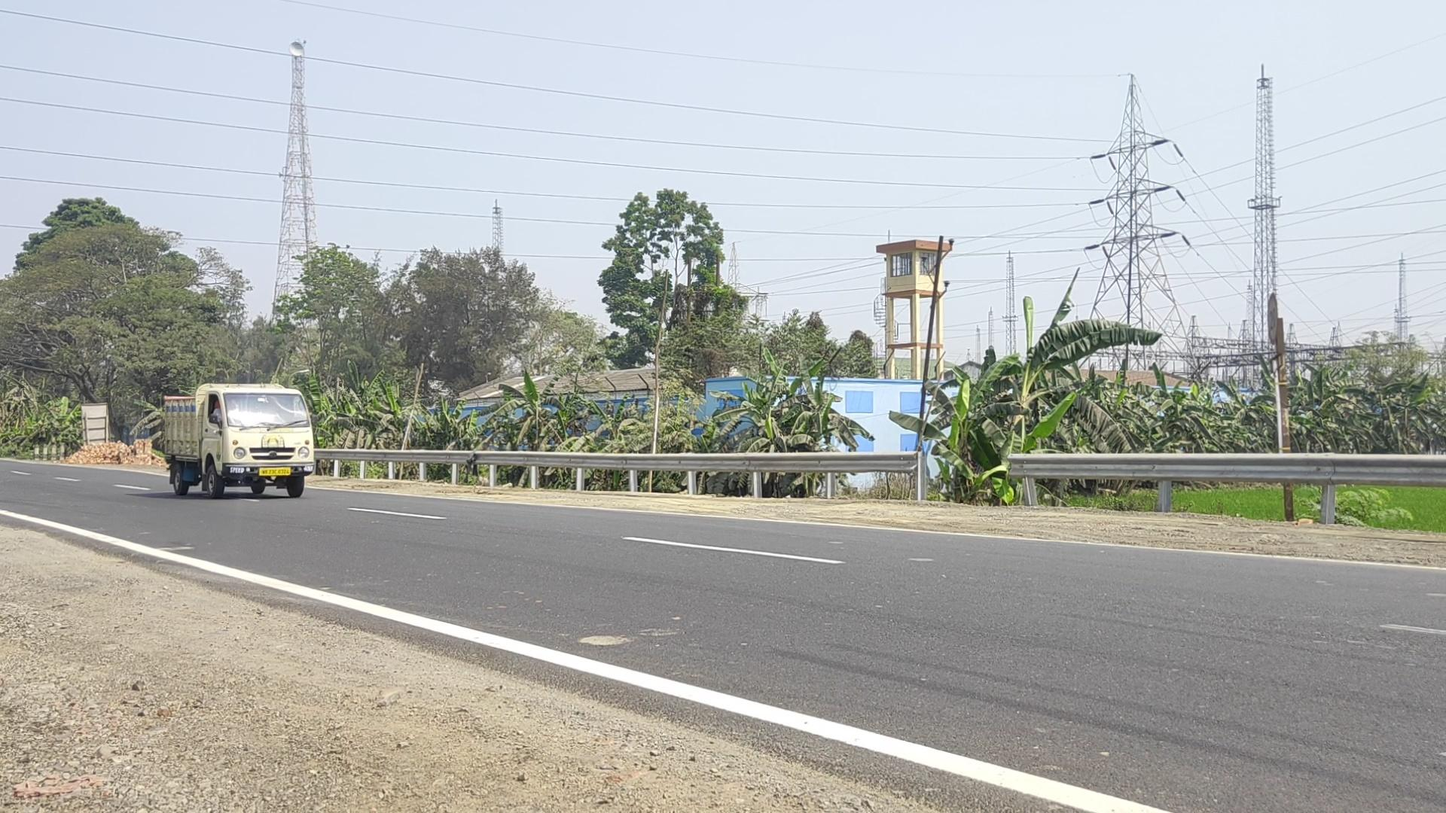van: (164, 381, 314, 500)
